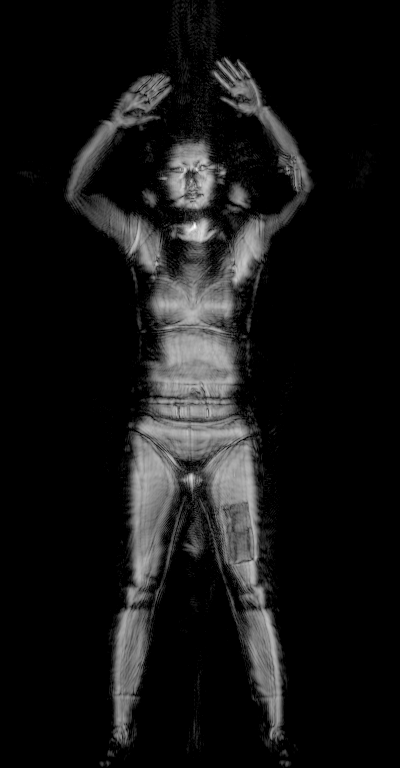head: (153, 135, 229, 218)
others: (216, 500, 260, 566), (274, 149, 304, 197)
person: (61, 54, 316, 768)
